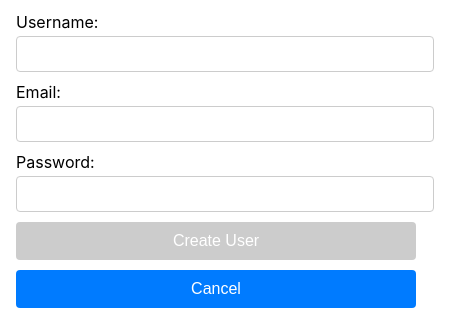
Scenario: CreateUserForm Logic Tests › form is valid and button is enabled when all fields are filled
The image size is (451, 325).
Type "test_user" into the field labelled "Username:". click: (225, 54)
box: [16,36,434,72]
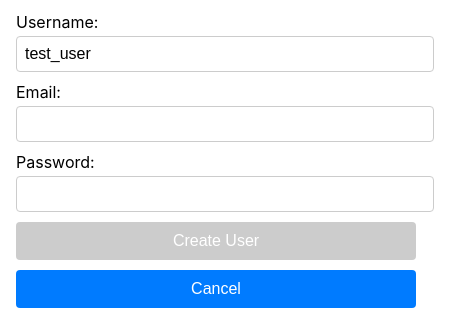
Type "test@example.com" into the field labelled "Email:". click: (225, 124)
box: [16,106,434,142]
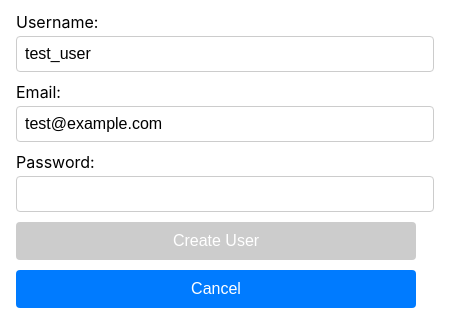
Type "password123" into the password field labelled "Password:". click: (225, 194)
box: [16,176,434,212]
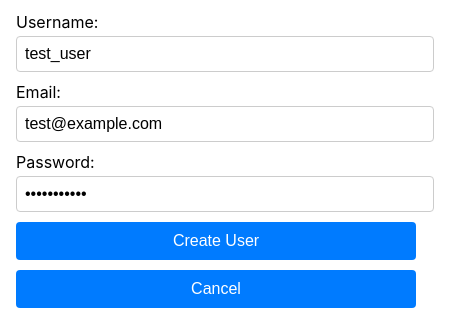
expect the button "Create User" is enabled: met, box [16,222,416,260]
